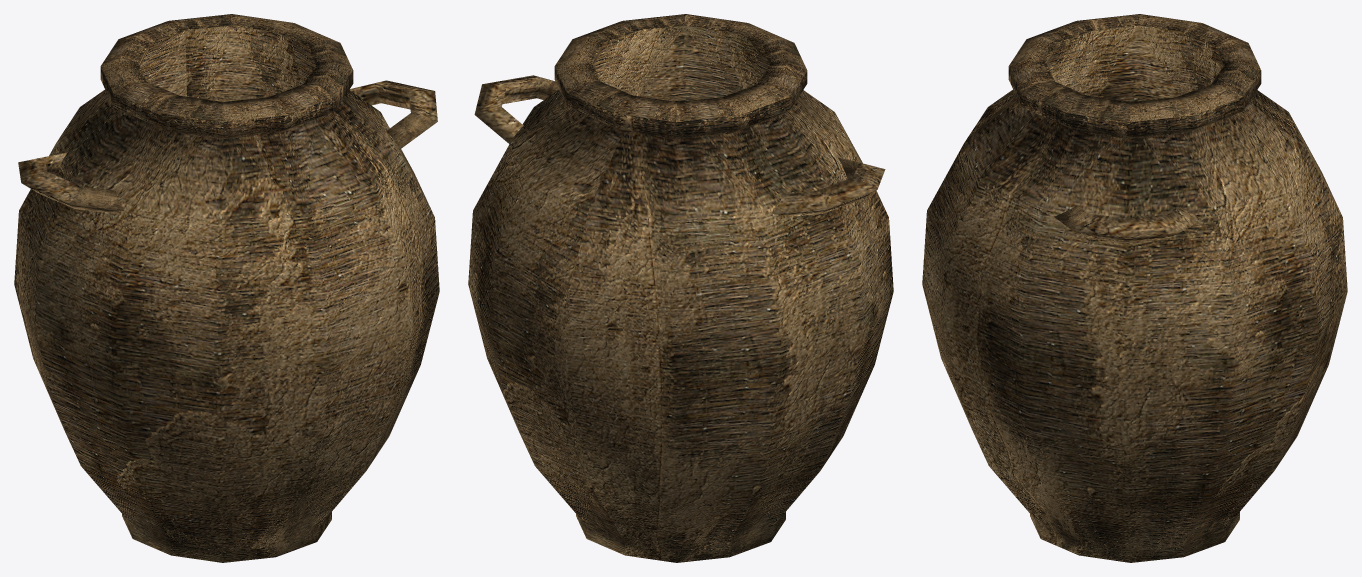
Rendered from crock1.obj.
3 views of the same model, side by side, from view 1: azimuth 30°, elevation 25°; view 2: azimuth 150°, elevation 25°; view 3: azimuth 270°, elevation 25° (orthographic).
Visible parts, largest first — view 1: crock1.obj; view 2: crock1.obj; view 3: crock1.obj.
Boxes of the visible parts, left/top/right/bottom form: crock1.obj: left=14, top=14, right=439, bottom=562; crock1.obj: left=468, top=14, right=893, bottom=562; crock1.obj: left=922, top=14, right=1347, bottom=562.
Bounding box in the file's own units: 25.01 × 26.97 × 22.77.
Materials: 1 (1 with a texture image).
